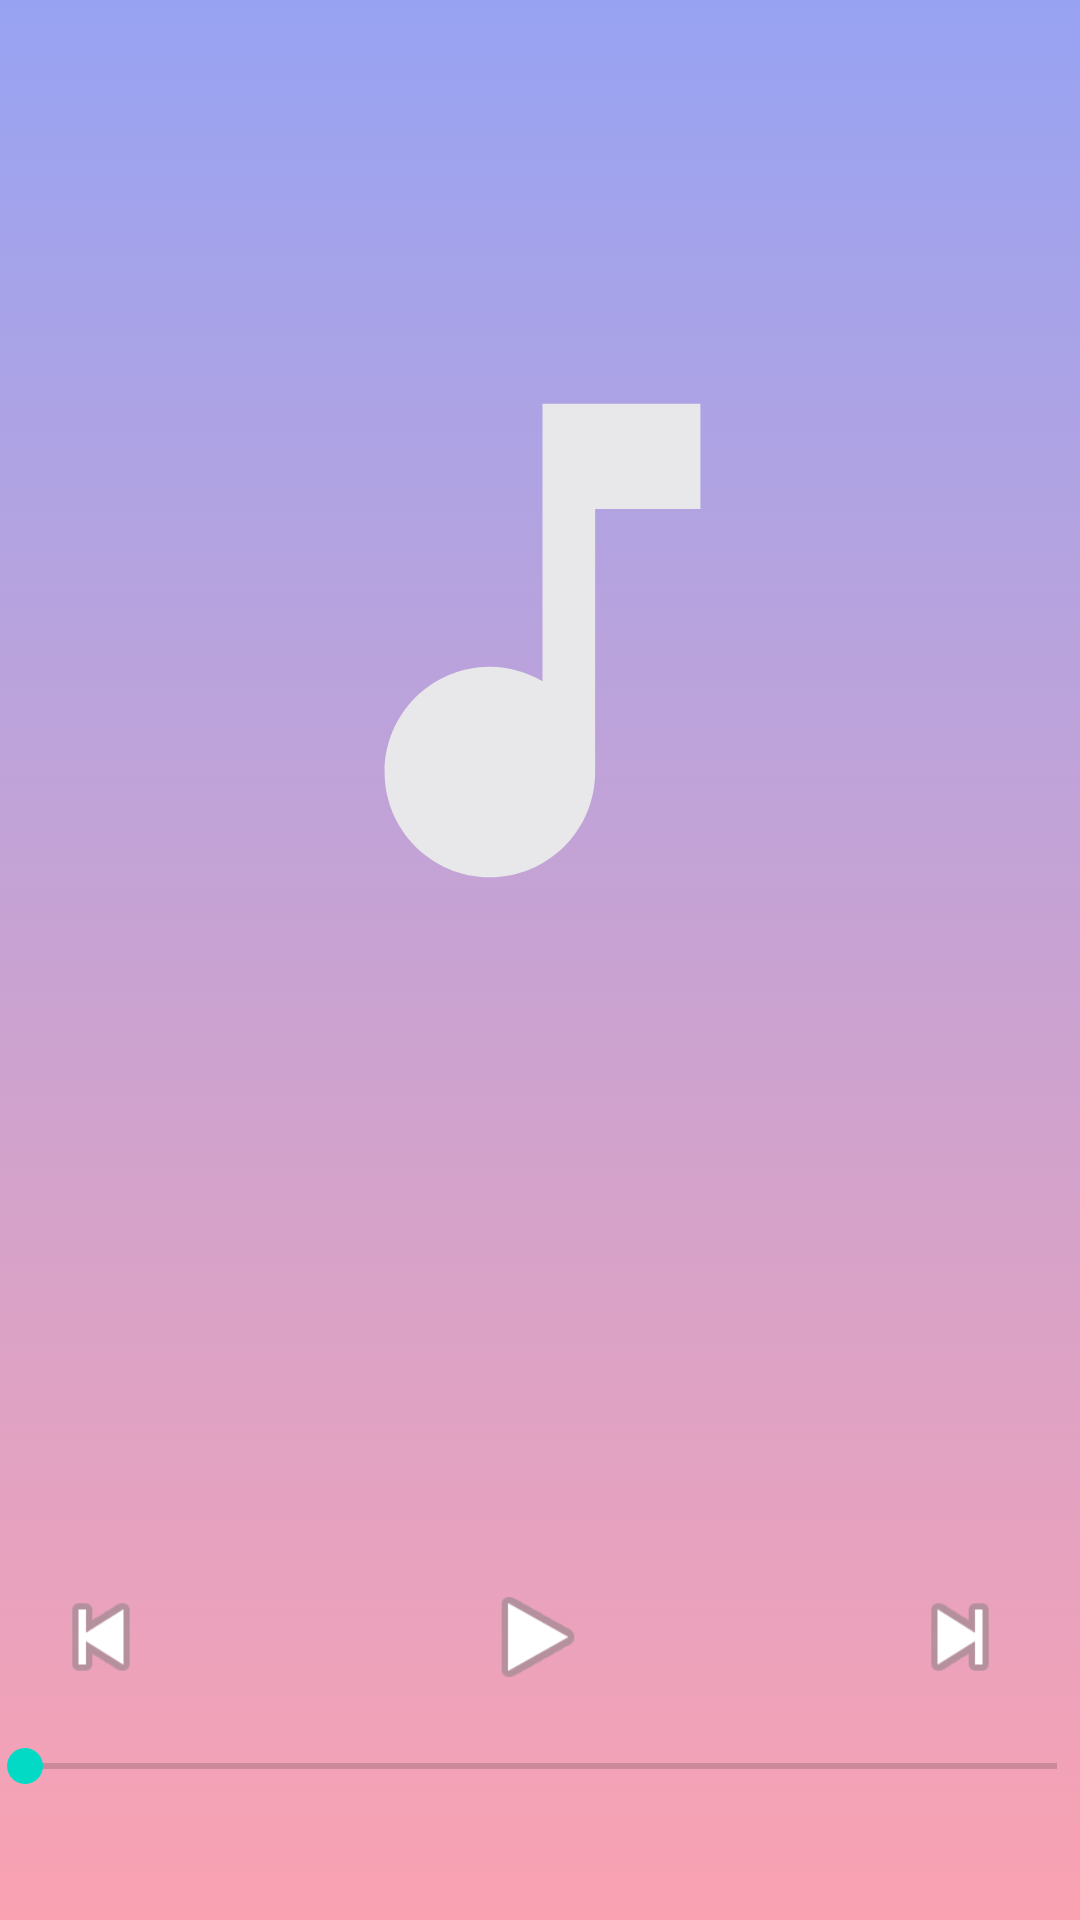

Icons on this 1080 × 1920 Android screen, each with its box as (x1,y1,x2,y2):
next: (931,1603,989,1671)
play: (502,1597,574,1677)
previous: (72,1603,130,1671)
